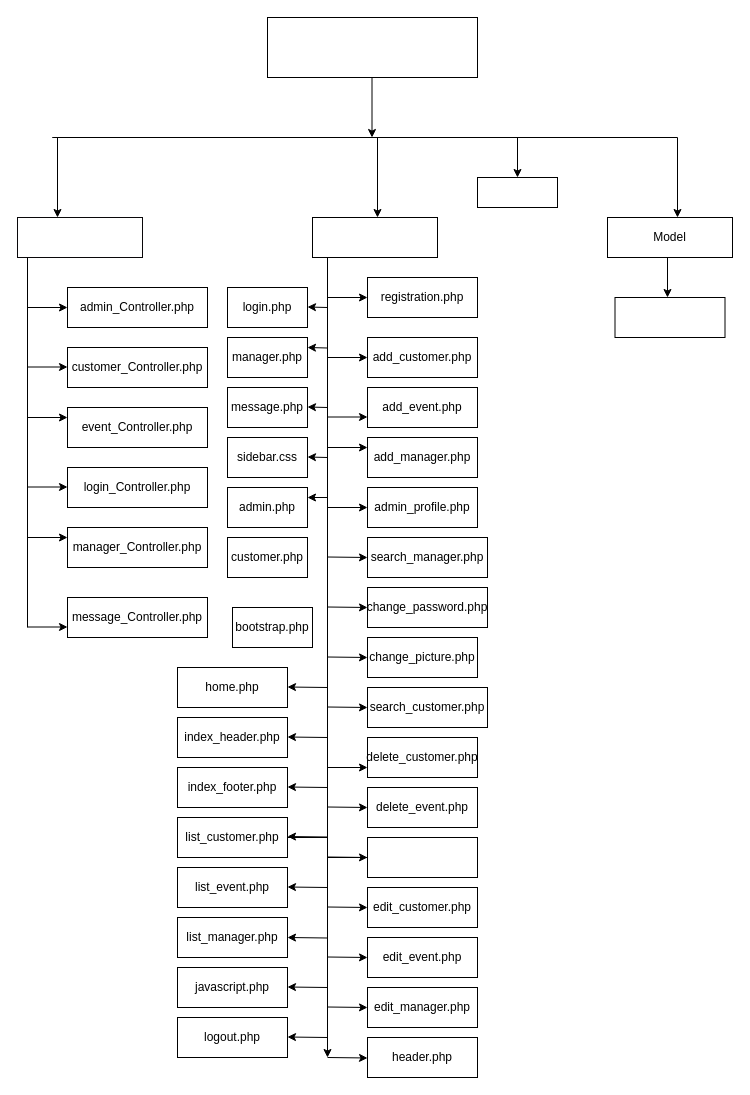
The diagram is 750 pixels wide and 1095 high, and some of its shapes have lost their labels. The centre of each missing label's shape, as x and y in pixels:
"Controller" goes at point 79,237.
"database.php" goes at point 669,317.
"delete_manager.php" goes at point 422,857.
"Project" goes at point 372,47.
"storage" goes at point 517,192.
"View" goes at point 375,237.
